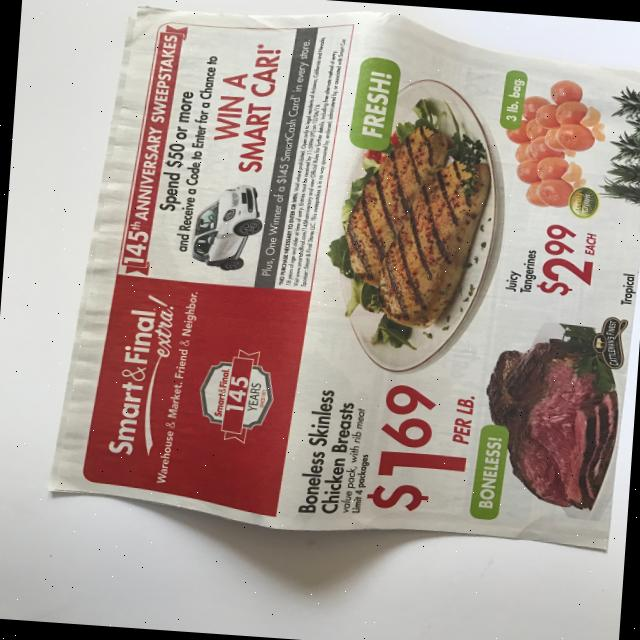paper: (45, 0, 640, 553)
